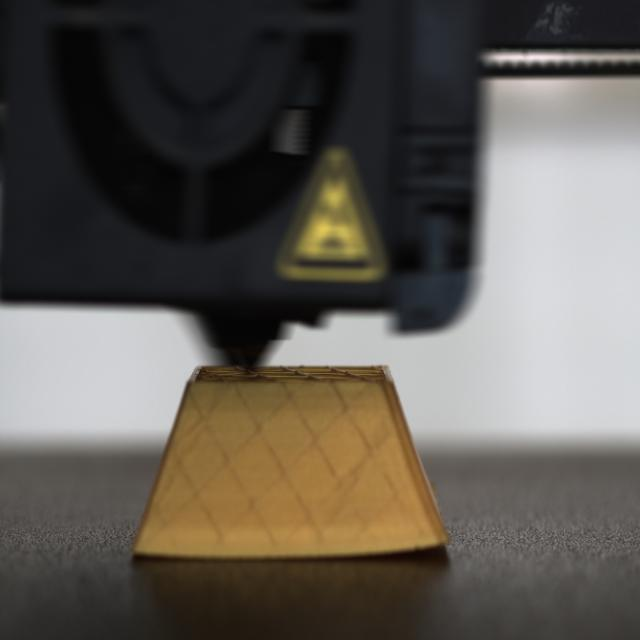Warping: (377, 534, 452, 564)
